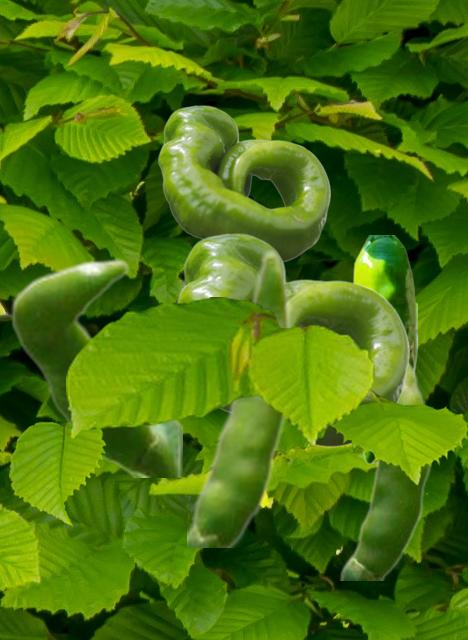green_chili: (176, 233, 408, 446), (10, 258, 181, 476), (187, 248, 291, 546), (158, 105, 329, 261), (337, 360, 432, 579), (350, 235, 416, 463)
